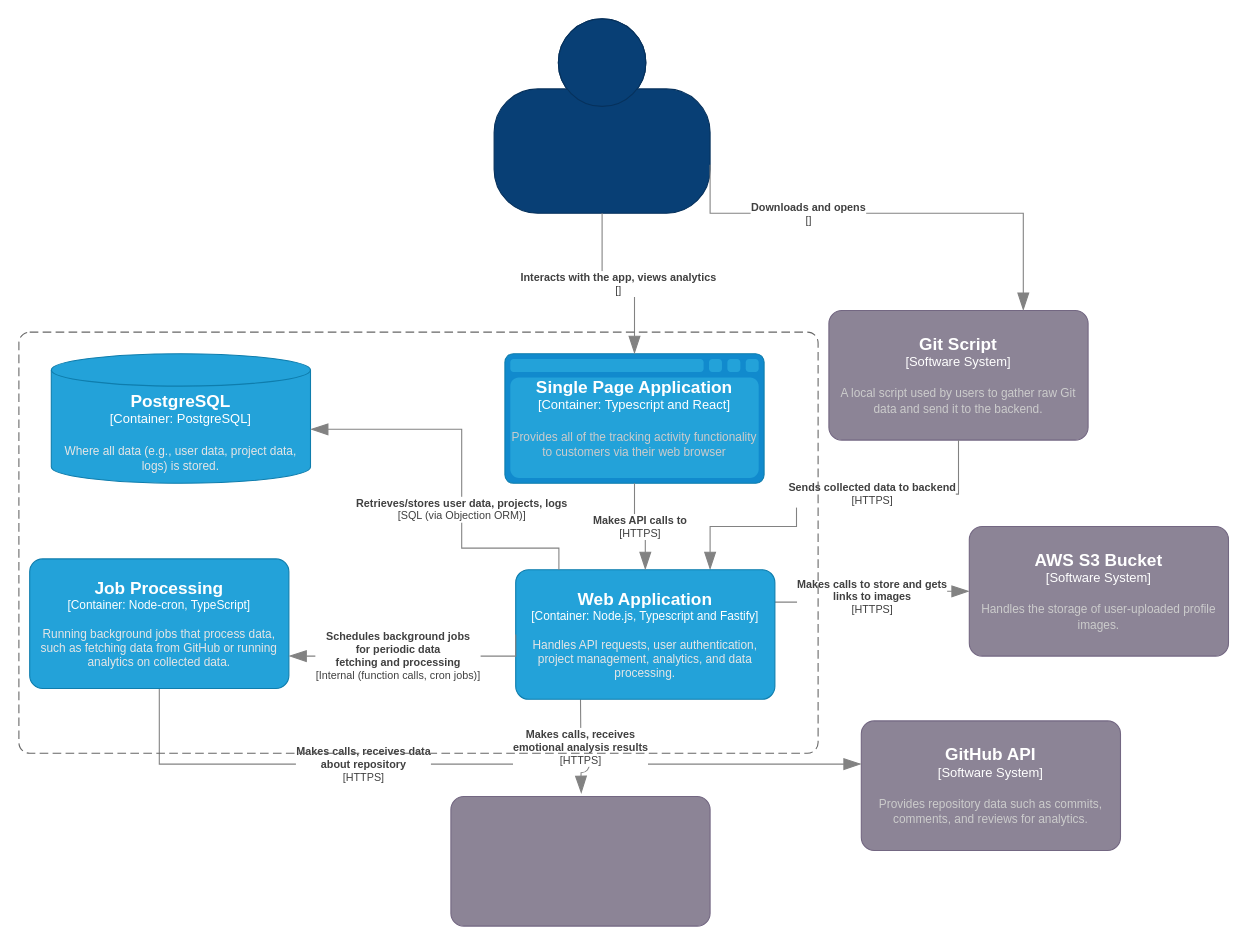
Image size: 1247x945. Some labels were removed from this diagram. Here are the shapes that lost their labels. From the top down, the box of each, then its label:
(493, 18, 710, 213): User [Person] Represents developers or managers who interact with the app.
(18, 331, 818, 753): Web App for Tracking Activity [Software System]
(450, 795, 710, 926): Gemini API [Software System] Performs emotional analysis on collected data.
